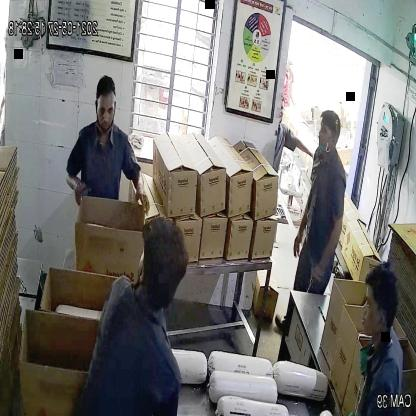no_goggles: (95, 101, 118, 120), (319, 120, 334, 138)
